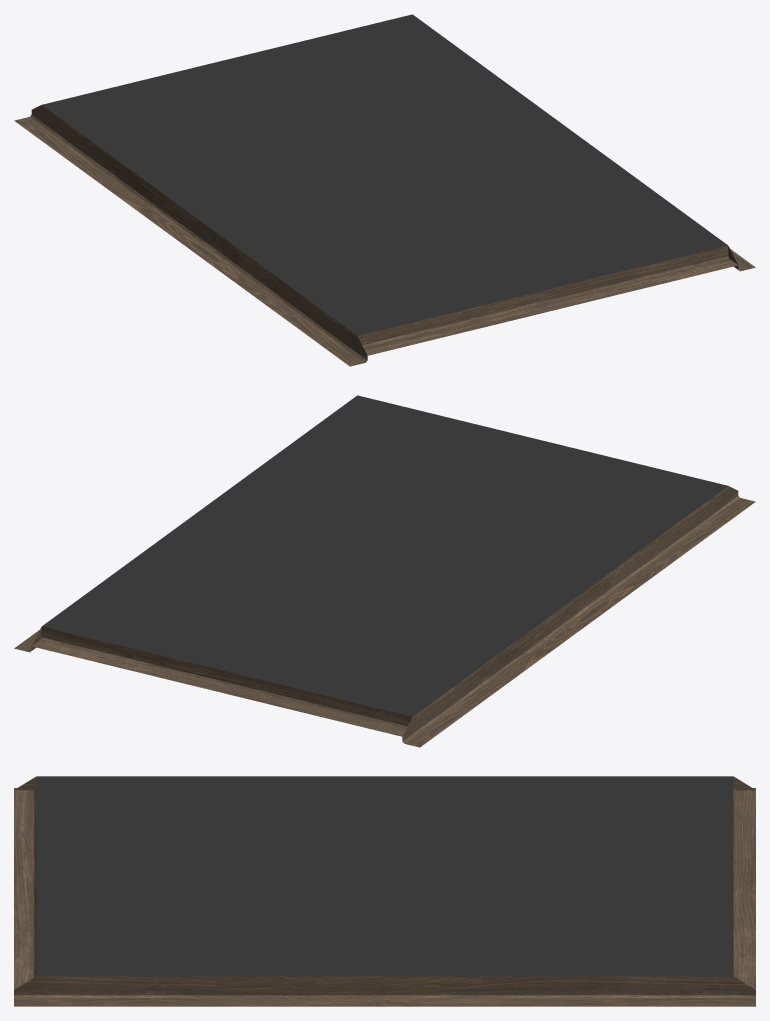
Rendered from SM_Ceiling_3x4.FBX.
3 renders of one model, top to bottom at view 1: azimuth 30°, elevation 25°; view 2: azimuth 150°, elevation 25°; view 3: azimuth 270°, elevation 25°, orthographic. The views are drawn at different scales.
Parts seen in each view (by area): view 1: SM_Ceiling_3x4; view 2: SM_Ceiling_3x4; view 3: SM_Ceiling_3x4.
Part boxes in pixels (x1,y1,x2,y2): SM_Ceiling_3x4: (14, 14, 755, 366); SM_Ceiling_3x4: (14, 395, 755, 747); SM_Ceiling_3x4: (14, 776, 755, 1006).
Size of what is drawn, in the model's own units: 300 by 430 by 13.39.
